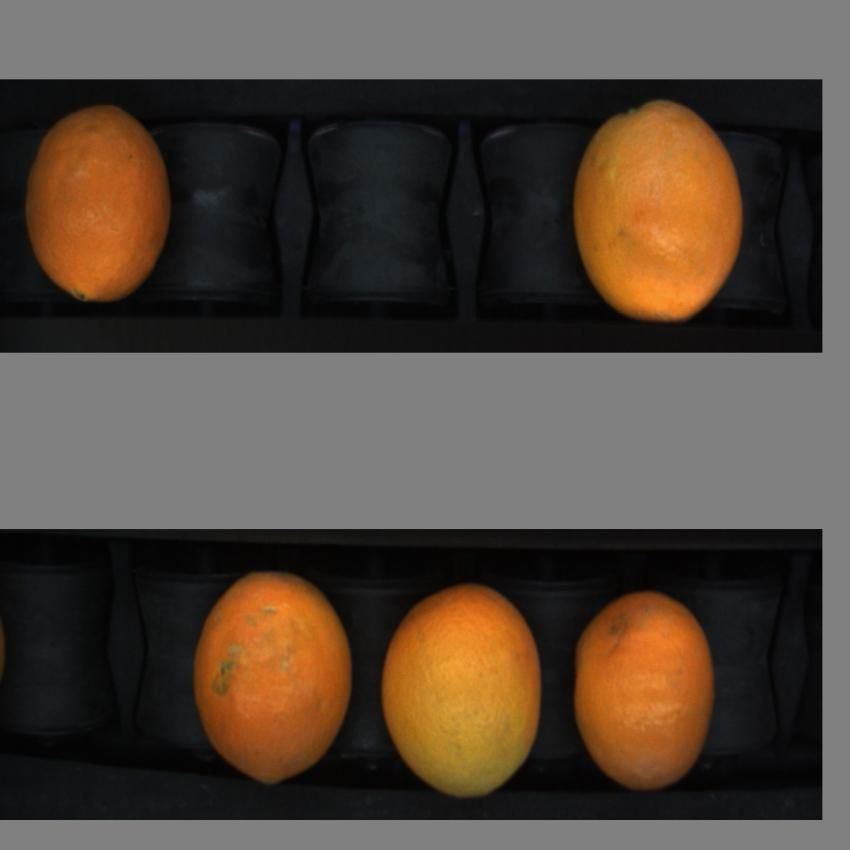Buen estado: (566, 104, 756, 315), (195, 568, 356, 782), (384, 586, 544, 790), (568, 597, 724, 792)
Mal estado: (21, 102, 174, 301)
